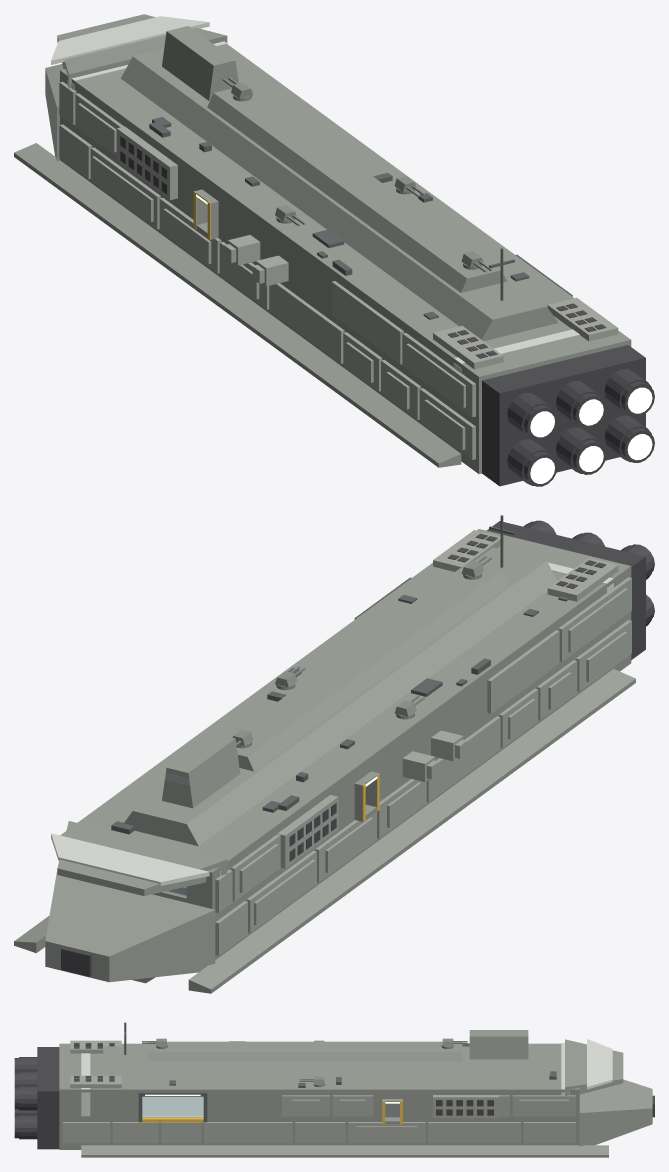
Rendered from ship_SMALL_FRIGATE_v3.glb.
The picture shows the model from 3 angles, top to bottom: view 1: azimuth 30°, elevation 25°; view 2: azimuth 150°, elevation 25°; view 3: azimuth 270°, elevation 25°; orthographic projection. The views are drawn at different scales.
Visible parts, largest first — view 1: SMALL_FRIGATE_Hull-col, SMALL_FRIGATE_Armor, SMALL_FRIGATE_Engines, SMALL_FRIGATE_Accent, SMALL_FRIGATE_EngineGlow, SMALL_FRIGATE_Details, SMALL_FRIGATE_EscapePod_1, SMALL_FRIGATE_EscapePod_2; view 2: SMALL_FRIGATE_Hull-col, SMALL_FRIGATE_Armor, SMALL_FRIGATE_Engines, SMALL_FRIGATE_Accent, SMALL_FRIGATE_Details, SMALL_FRIGATE_EscapePod_2, SMALL_FRIGATE_EscapePod_1; view 3: SMALL_FRIGATE_Hull-col, SMALL_FRIGATE_Armor, SMALL_FRIGATE_Engines, SMALL_FRIGATE_Accent, SMALL_FRIGATE_CargoBayShield, SMALL_FRIGATE_CargoBayDoor-col, SMALL_FRIGATE_Trim, SMALL_FRIGATE_Hazard, SMALL_FRIGATE_Details.
Boxes of the visible parts, x1,y1,x2,y2 form: SMALL_FRIGATE_Hull-col: (14,14,631,473); SMALL_FRIGATE_Armor: (59,81,618,459); SMALL_FRIGATE_Engines: (120,135,654,486); SMALL_FRIGATE_Accent: (51,16,579,372); SMALL_FRIGATE_EngineGlow: (530,387,652,483); SMALL_FRIGATE_Details: (149,117,529,319); SMALL_FRIGATE_EscapePod_1: (252,255,288,286); SMALL_FRIGATE_EscapePod_2: (224,235,260,265); SMALL_FRIGATE_Hull-col: (14,529,635,993); SMALL_FRIGATE_Armor: (215,530,631,955); SMALL_FRIGATE_Engines: (61,520,654,976); SMALL_FRIGATE_Accent: (51,562,613,885); SMALL_FRIGATE_Details: (111,515,568,834); SMALL_FRIGATE_EscapePod_2: (402,751,438,781); SMALL_FRIGATE_EscapePod_1: (431,730,466,761); SMALL_FRIGATE_Hull-col: (59,1030,652,1157); SMALL_FRIGATE_Armor: (63,1040,575,1143); SMALL_FRIGATE_Engines: (14,1043,654,1149); SMALL_FRIGATE_Accent: (81,1039,612,1116); SMALL_FRIGATE_CargoBayShield: (142,1096,203,1116); SMALL_FRIGATE_CargoBayDoor-col: (142,1096,203,1116); SMALL_FRIGATE_Trim: (138,1091,207,1122); SMALL_FRIGATE_Hazard: (142,1101,402,1124); SMALL_FRIGATE_Details: (124,1022,556,1087).
Size of the model in its own units: 19.8 by 17.4 by 87.5.
